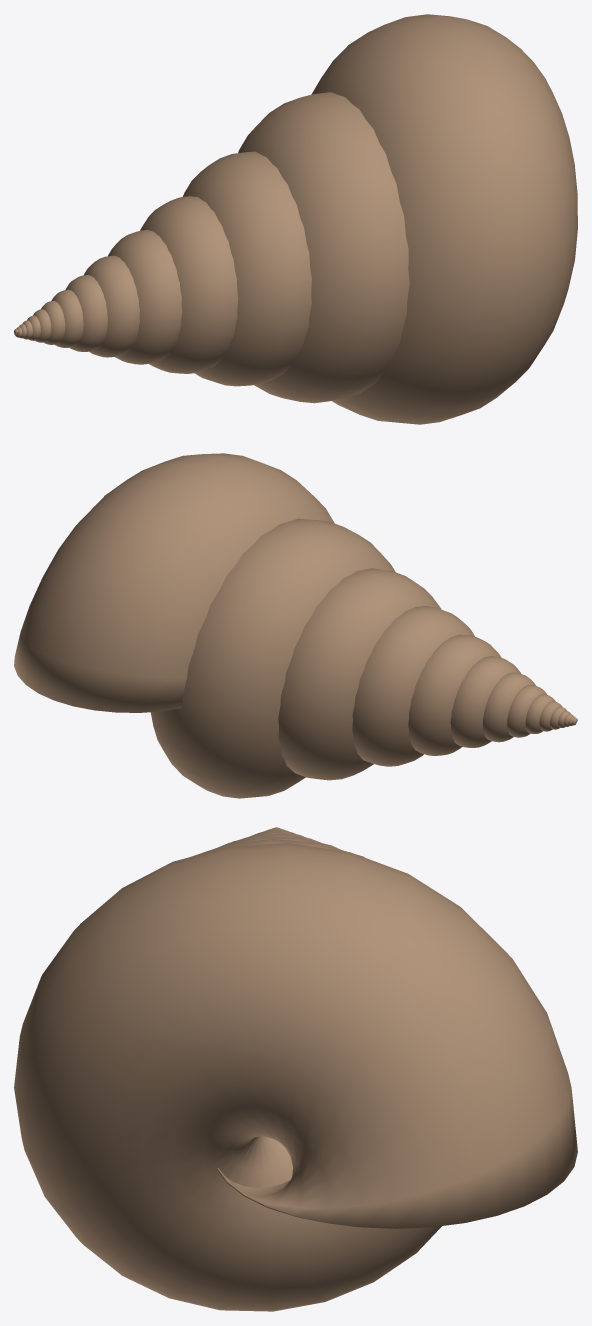
File: SeaShell.fbx
3 views of the same model, one above another, from view 1: azimuth 30°, elevation 25°; view 2: azimuth 150°, elevation 25°; view 3: azimuth 270°, elevation 25° (orthographic). The views are drawn at different scales.
Visible parts, largest first — view 1: SeaShell; view 2: SeaShell; view 3: SeaShell.
Part boxes in pixels (x1,y1,x2,y2): SeaShell: [14, 14, 577, 424]; SeaShell: [14, 453, 577, 798]; SeaShell: [14, 827, 577, 1311].
Bounding box in the file's own units: 49.46 × 28.9 × 30.99.
